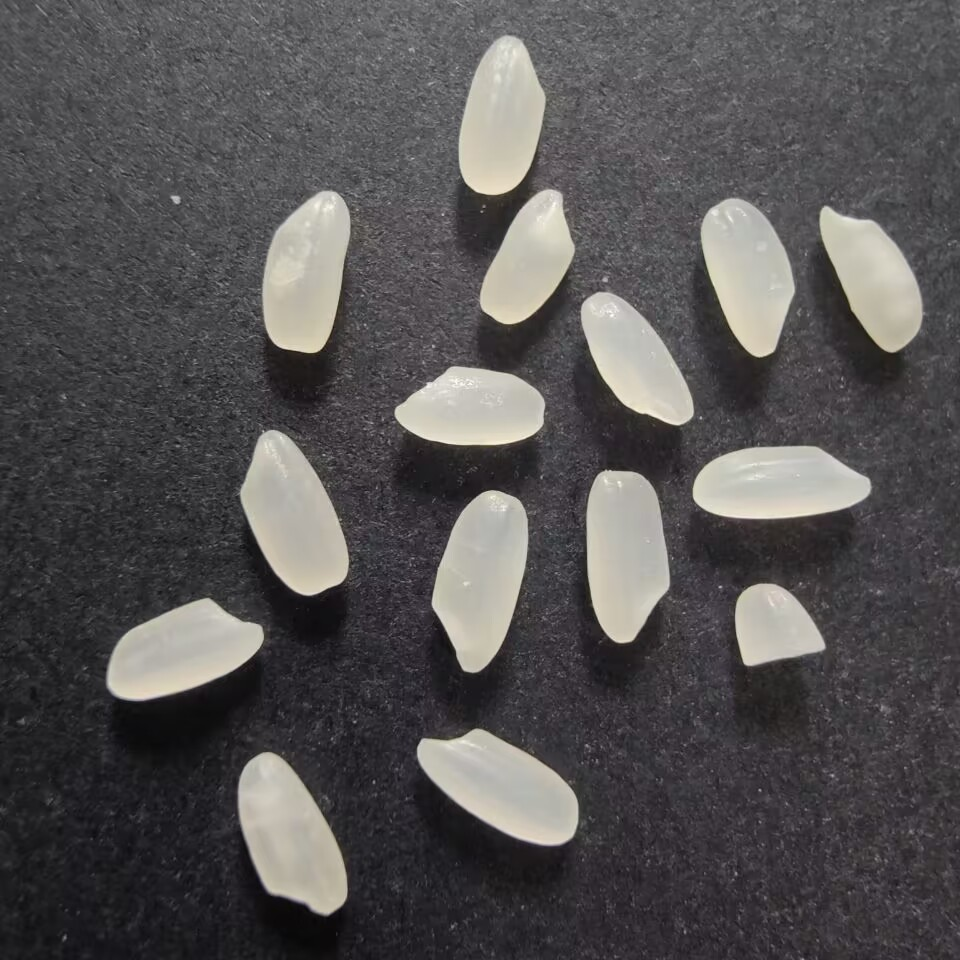broken: (730, 580, 830, 675)
rice: (409, 727, 582, 852), (233, 425, 353, 598), (427, 484, 531, 678), (101, 592, 269, 708), (236, 748, 349, 919), (813, 203, 932, 357), (581, 464, 678, 651), (577, 288, 698, 431), (256, 187, 357, 358), (695, 197, 799, 363), (472, 185, 582, 332), (688, 438, 876, 523), (454, 30, 547, 200), (388, 362, 547, 449)
